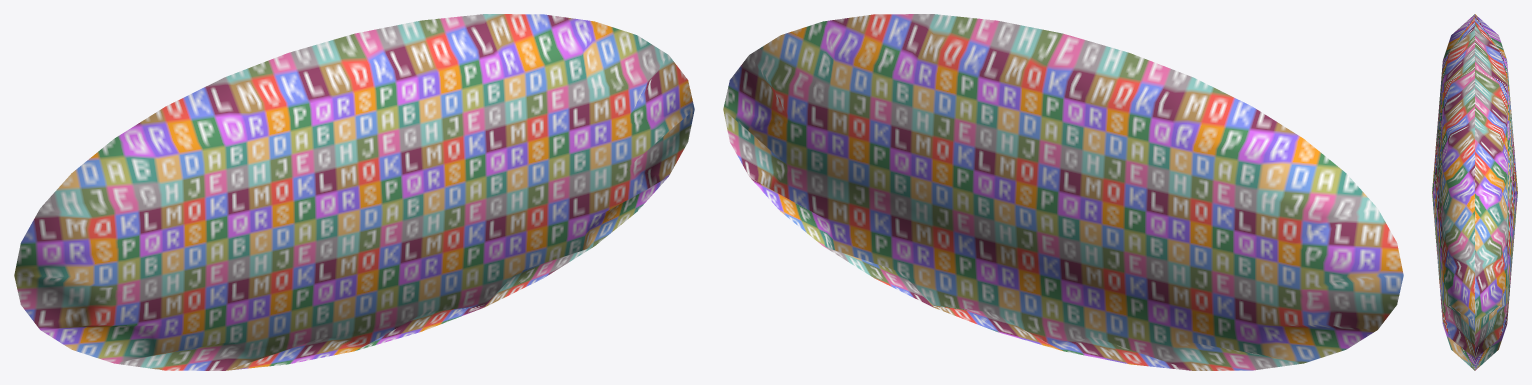
The model's file is thrust.obj.
3 views of the same model, side by side, from view 1: azimuth 30°, elevation 25°; view 2: azimuth 150°, elevation 25°; view 3: azimuth 270°, elevation 25° (orthographic). The views are drawn at different scales.
Visible parts, largest first — view 1: Cylinder2; view 2: Cylinder2; view 3: Cylinder2.
Part boxes in pixels (x1,y1,x2,y2): Cylinder2: (14, 14, 694, 370); Cylinder2: (723, 14, 1403, 370); Cylinder2: (1432, 14, 1517, 370).
Size of the model in its own units: 1.53 by 0.6808 by 0.2147.
Materials: 1 (1 with a texture image).
